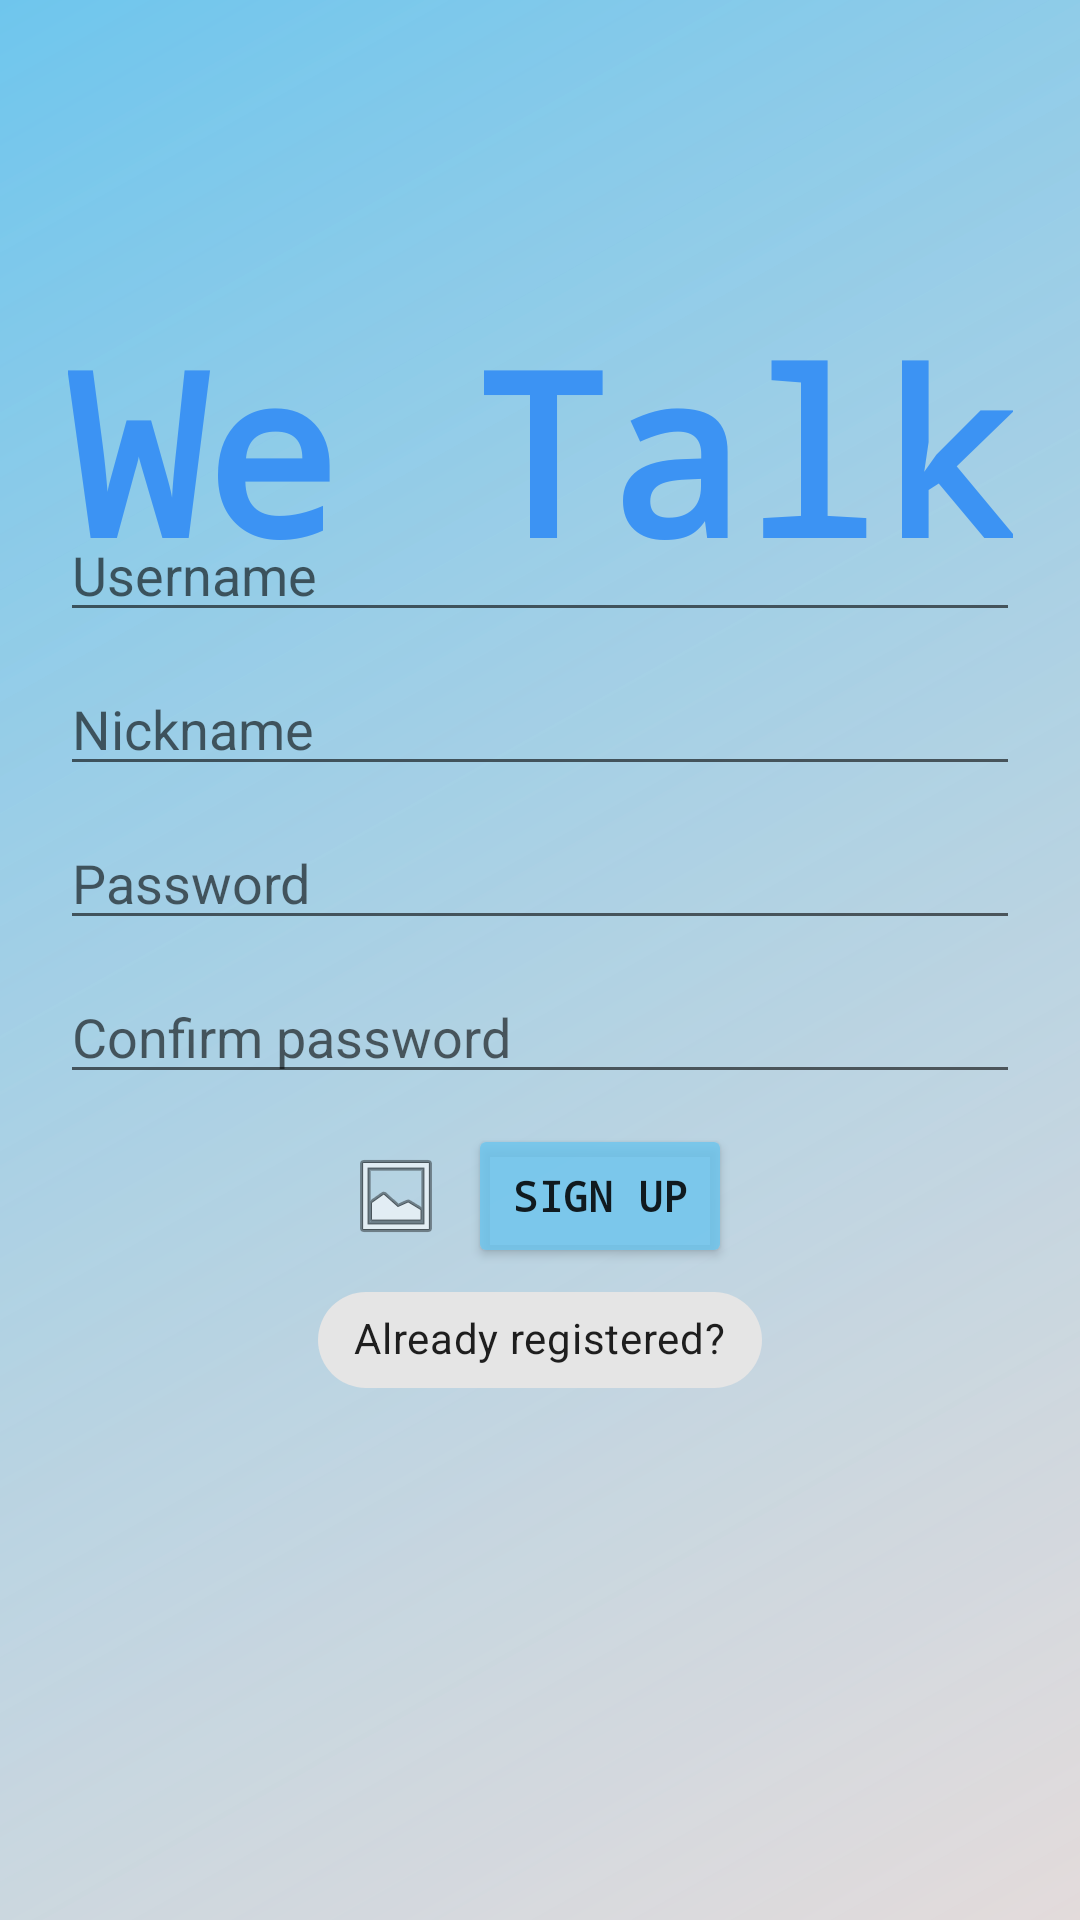

Icons on this 1080w x 1920h Android screen, each with the point to tap as (x,y):
gallery: (396,1196)
